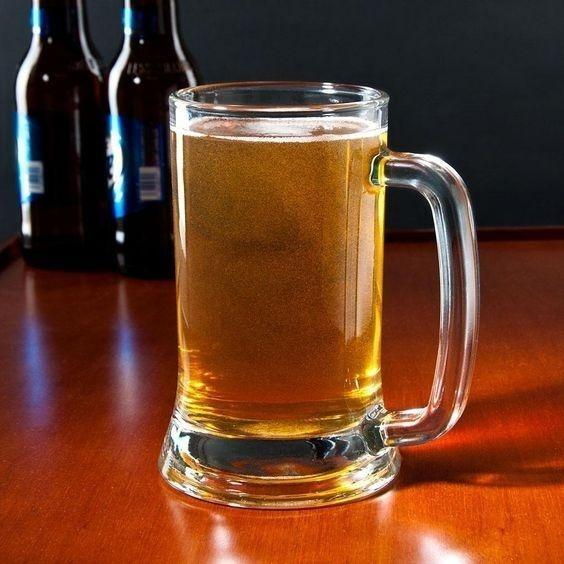bottle-glass: (104, 0, 206, 279), (11, 0, 115, 269)
glass-mug: (157, 74, 485, 518)
